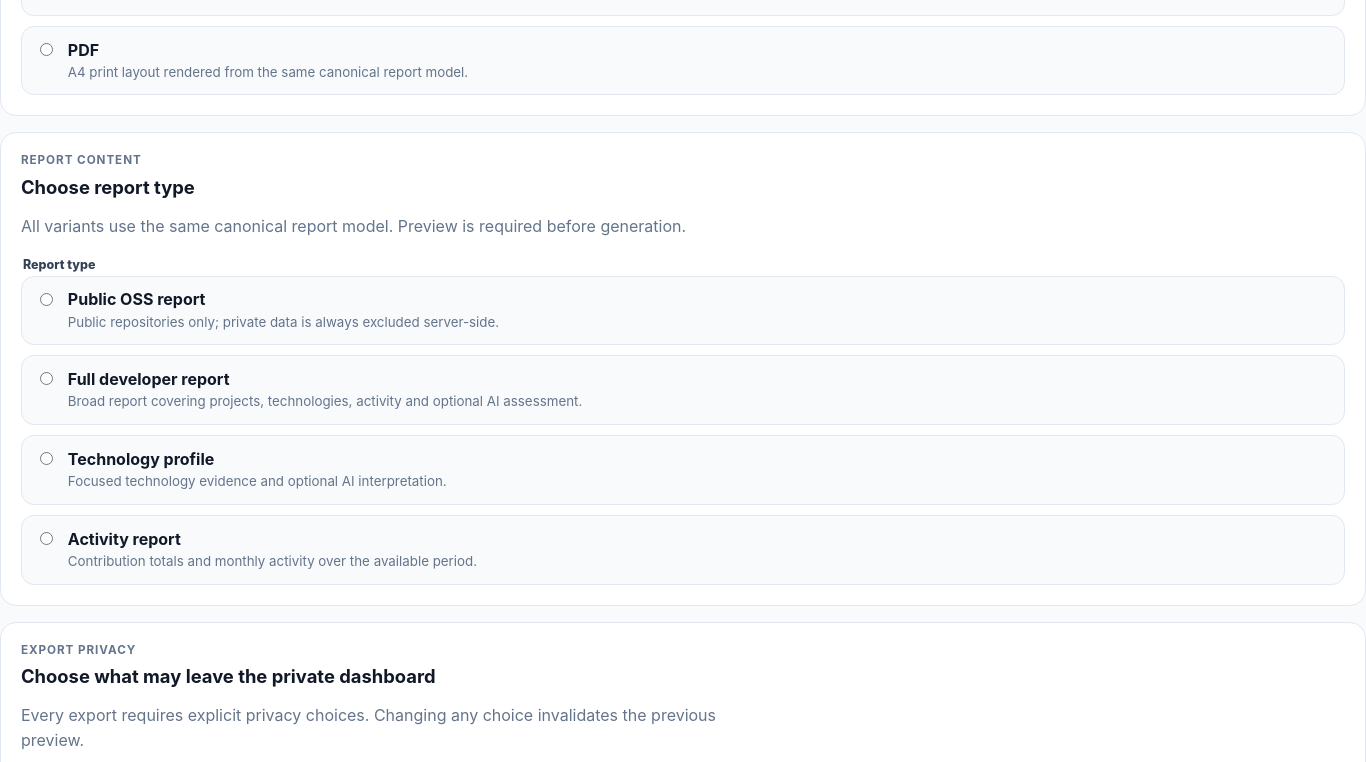
Test case: feature layer: reports › requires privacy preview before report generation
(page scrolled)
Expected: the button "Generate Markdown report" is not shown
Click the radio button labelled "Full developer report" at (46, 379), box [40,372,53,385]
(page scrolled)
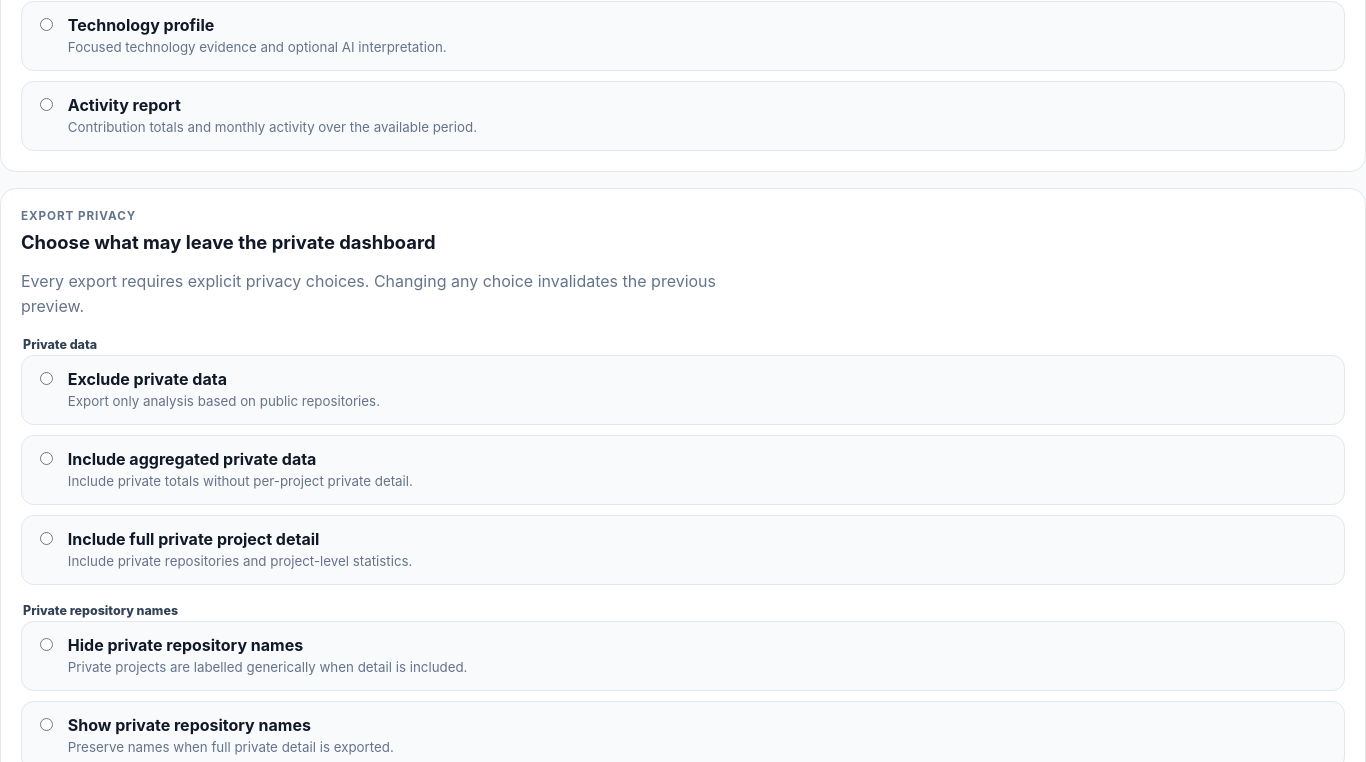
Click the radio button labelled "Exclude private data" at (46, 379), box [40,372,53,386]
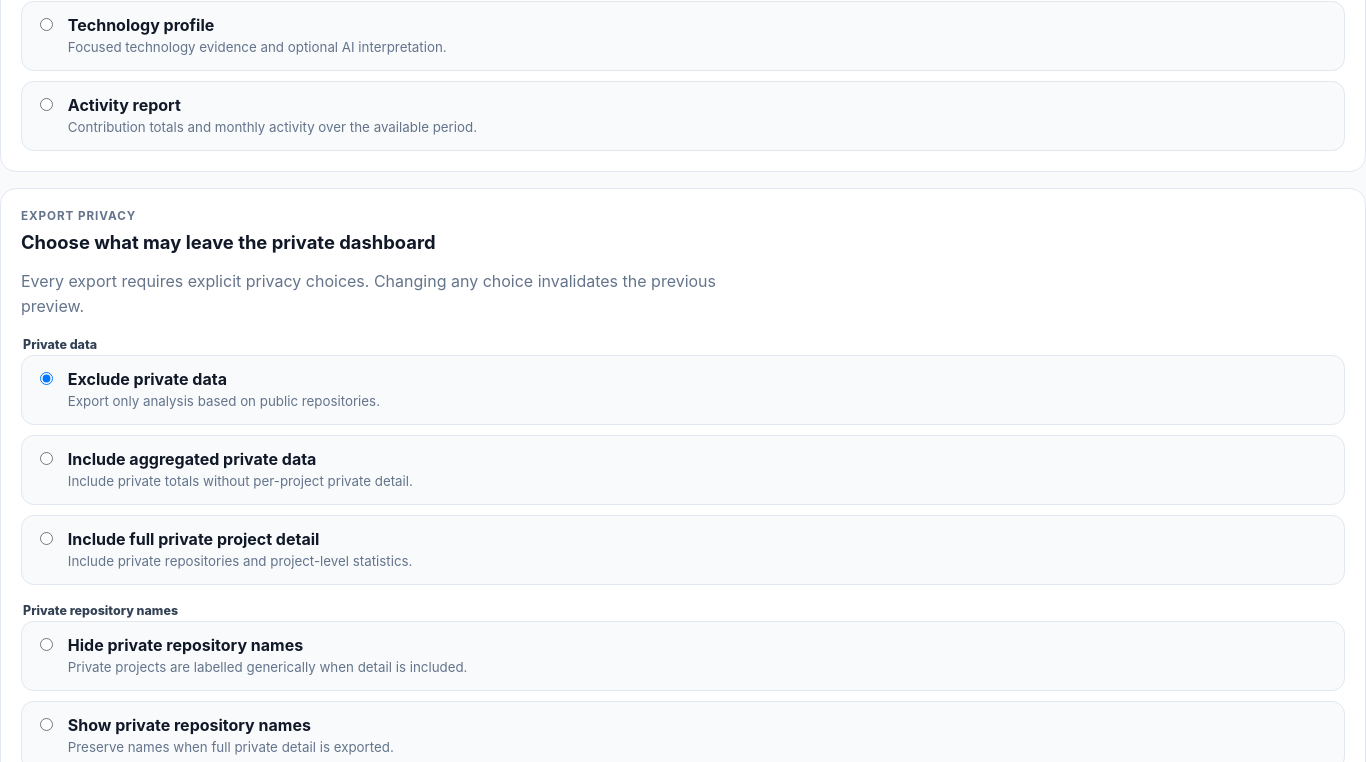
Click the radio button labelled "Hide private repository names" at (46, 645), box [40,638,53,651]
(page scrolled)
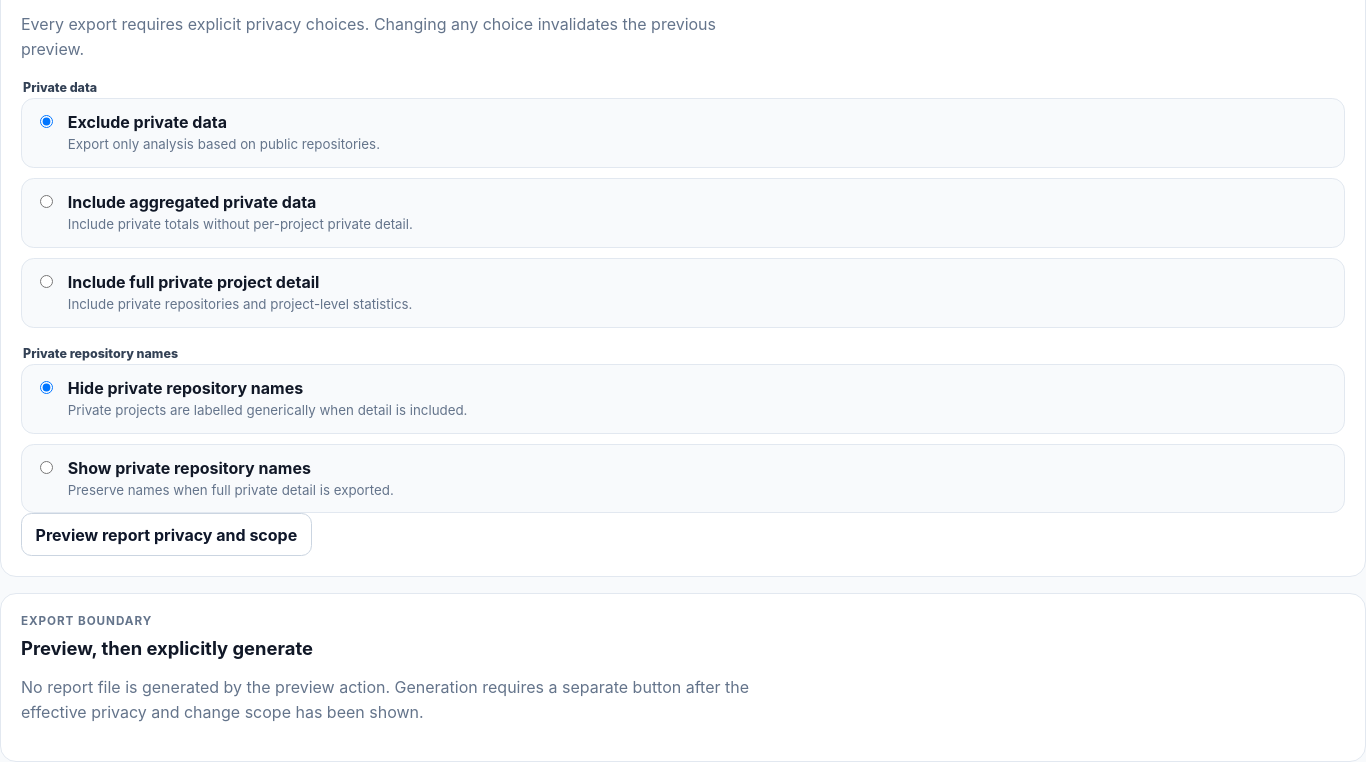
Click the button "Preview report privacy and scope" at (166, 535), box [21,513,312,556]
(page scrolled)
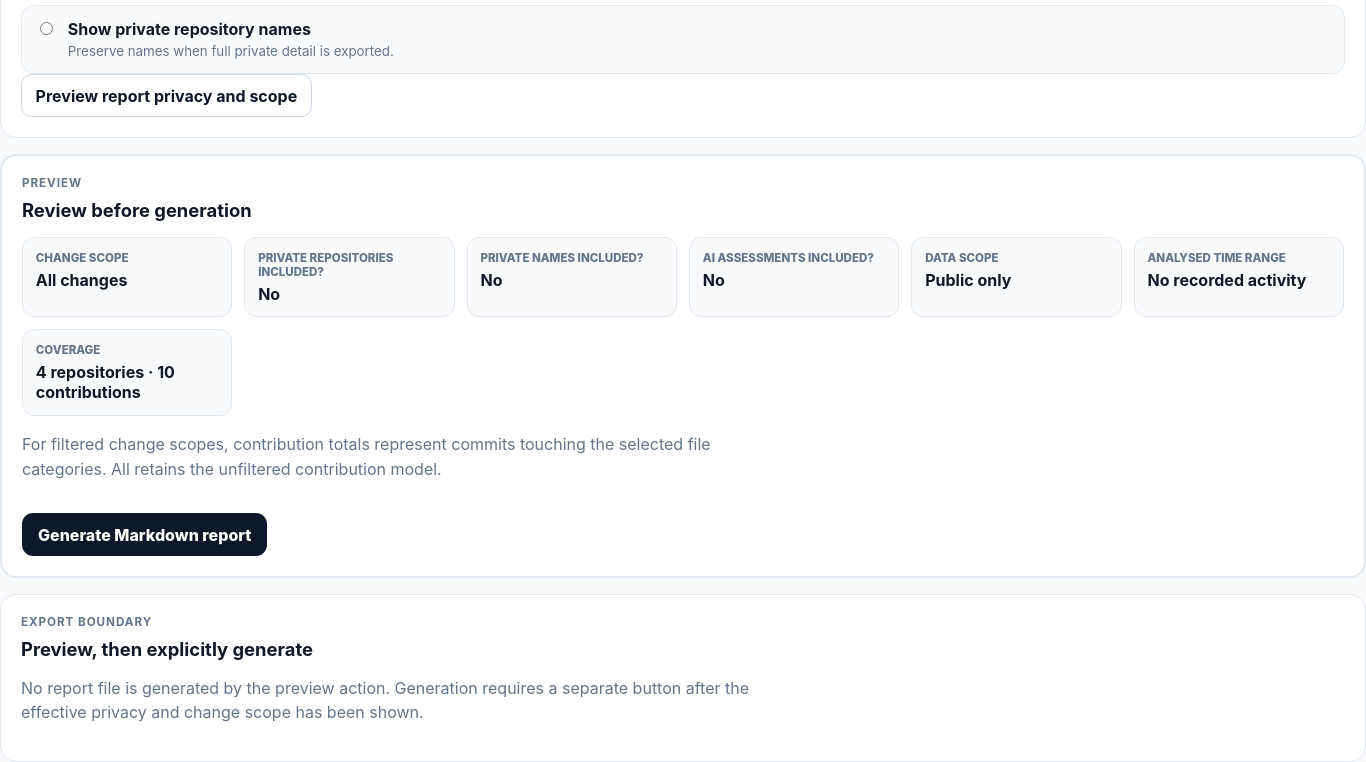
Expected: the heading "Review before generation" is shown, [22,199,252,221]
Expected: the button "Generate Markdown report" is enabled, [22,513,268,556]
